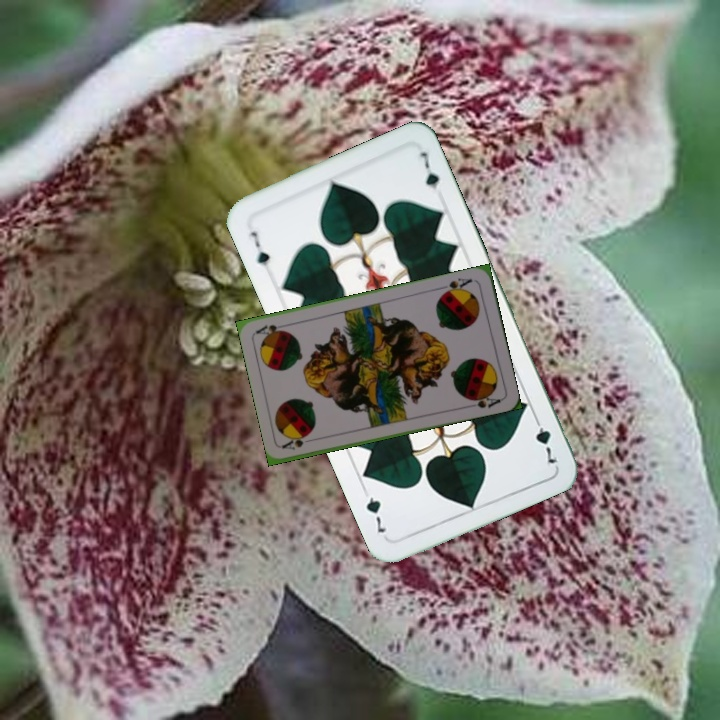G7: (529, 411, 560, 469), (246, 227, 273, 269)
SA: (436, 273, 474, 298), (279, 432, 310, 452)
